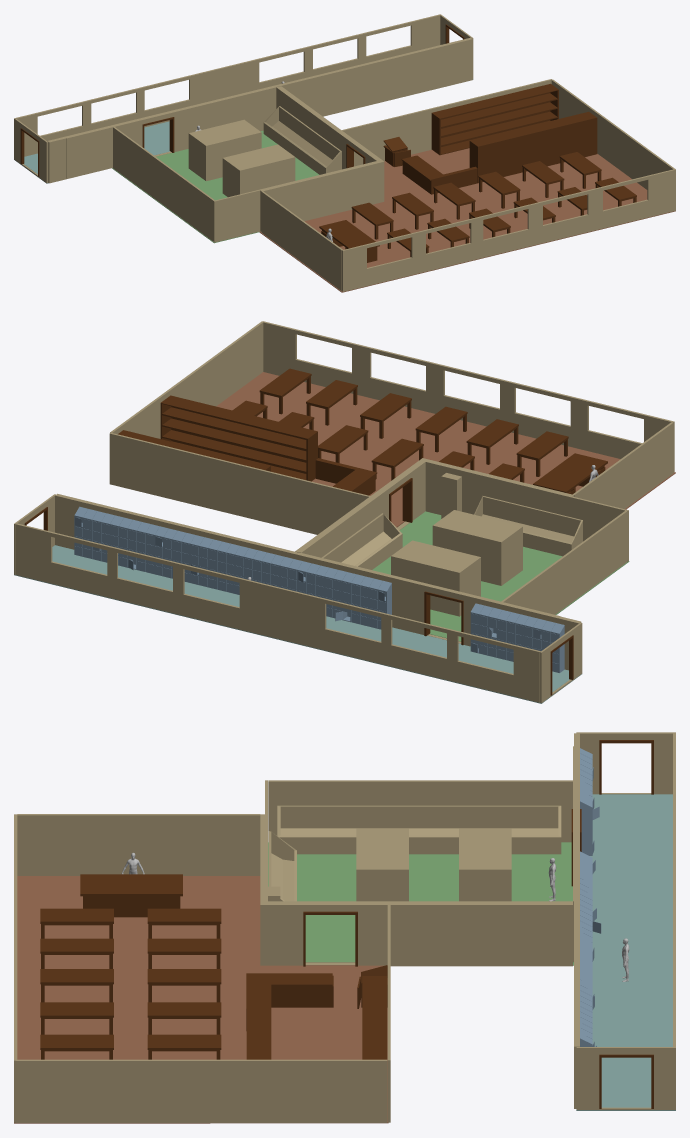
Rendered from WRL_Lab.fbx.
3 views of the same model, one above another, from view 1: azimuth 30°, elevation 25°; view 2: azimuth 150°, elevation 25°; view 3: azimuth 270°, elevation 25° (orthographic). The views are drawn at different scales.
Visible parts, largest first — view 1: Hallway_Wall_1, Floor_3, Science_Wall_4, HallWay_Wall_2, WashRoom_Wall_3, Shelves_1, Shelves_2, WashRoom_Wall_1, Science_Wall_1, Science_Wall_3, Science_Wall_2, Short_Lockers2 (+17 smaller); view 2: HallWay_Wall_2, Science_Wall_3, Science_Wall_4, Floor_3, Shelves_1, Hallway_Wall_1, Floor_1, WashRoom_Wall_3, WashRoom_Wall_1, Science_Wall_2, Short_Lockers2, Science_Wall_1 (+20 smaller); view 3: Floor_3, Science_Wall_2, Floor_1, WashRoom_Wall_2, Science_Wall_1, Sink2, Floor_2, WashRoom_Wall_1, Short_Lockers1, Short_Lockers2, TeacherDesk, Hallway_Wall_4 (+21 smaller).
Part boxes in pixels (x1=…): Hallway_Wall_1: x1=47, y1=37, x2=472, y2=183; Floor_3: x1=259, y1=148, x2=675, y2=292; Science_Wall_4: x1=342, y1=169, x2=675, y2=291; HallWay_Wall_2: x1=16, y1=14, x2=440, y2=156; WashRoom_Wall_3: x1=213, y1=161, x2=379, y2=242; Shelves_1: x1=469, y1=111, x2=597, y2=183; Shelves_2: x1=431, y1=83, x2=558, y2=155; WashRoom_Wall_1: x1=113, y1=127, x2=214, y2=241; Science_Wall_1: x1=261, y1=191, x2=342, y2=291; Science_Wall_3: x1=342, y1=79, x2=551, y2=166; Science_Wall_2: x1=551, y1=79, x2=675, y2=189; Short_Lockers2: x1=222, y1=144, x2=295, y2=197; HallWay_Wall_2: x1=16, y1=523, x2=540, y2=702; Science_Wall_3: x1=109, y1=432, x2=369, y2=534; Science_Wall_4: x1=262, y1=321, x2=674, y2=472; Floor_3: x1=216, y1=372, x2=675, y2=527; Shelves_1: x1=160, y1=395, x2=317, y2=481; Hallway_Wall_1: x1=55, y1=493, x2=581, y2=670; Floor_1: x1=14, y1=545, x2=581, y2=703; WashRoom_Wall_3: x1=425, y1=459, x2=628, y2=561; WashRoom_Wall_1: x1=501, y1=510, x2=627, y2=614; Science_Wall_2: x1=110, y1=321, x2=263, y2=438; Short_Lockers2: x1=432, y1=510, x2=522, y2=585; Science_Wall_1: x1=573, y1=422, x2=673, y2=508; Floor_3: x1=14, y1=876, x2=388, y2=1123; Science_Wall_2: x1=15, y1=1059, x2=387, y2=1122; Floor_1: x1=576, y1=794, x2=675, y2=1110; WashRoom_Wall_2: x1=260, y1=901, x2=572, y2=966; Science_Wall_1: x1=17, y1=814, x2=260, y2=875; Sink2: x1=277, y1=805, x2=561, y2=854; Floor_2: x1=268, y1=842, x2=573, y2=965; WashRoom_Wall_1: x1=268, y1=780, x2=572, y2=842; Short_Lockers1: x1=459, y1=828, x2=511, y2=901; Short_Lockers2: x1=356, y1=828, x2=408, y2=901; TeacherDesk: x1=80, y1=874, x2=182, y2=917; Hallway_Wall_4: x1=576, y1=1047, x2=675, y2=1109.
Bounding box in the file's own units: 3127 × 279 × 2659.
